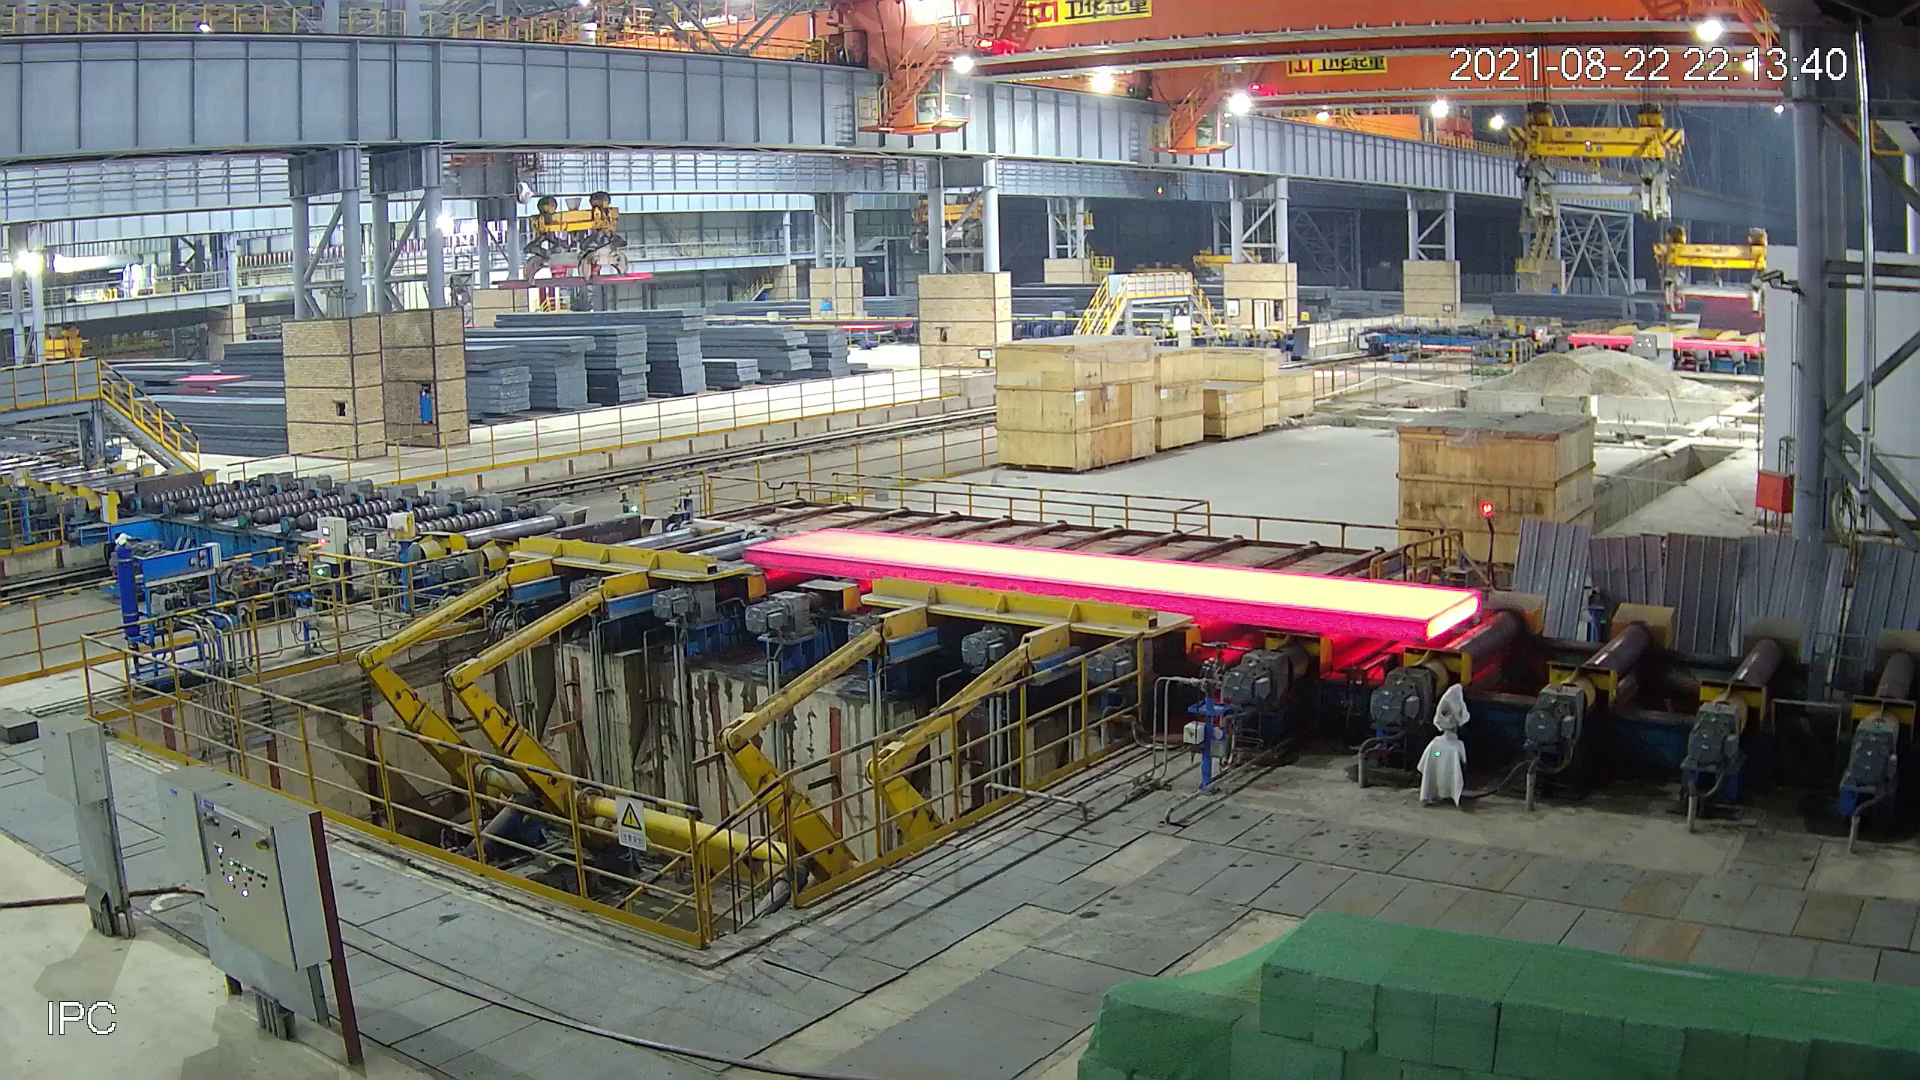slab: (741, 526, 1480, 642)
